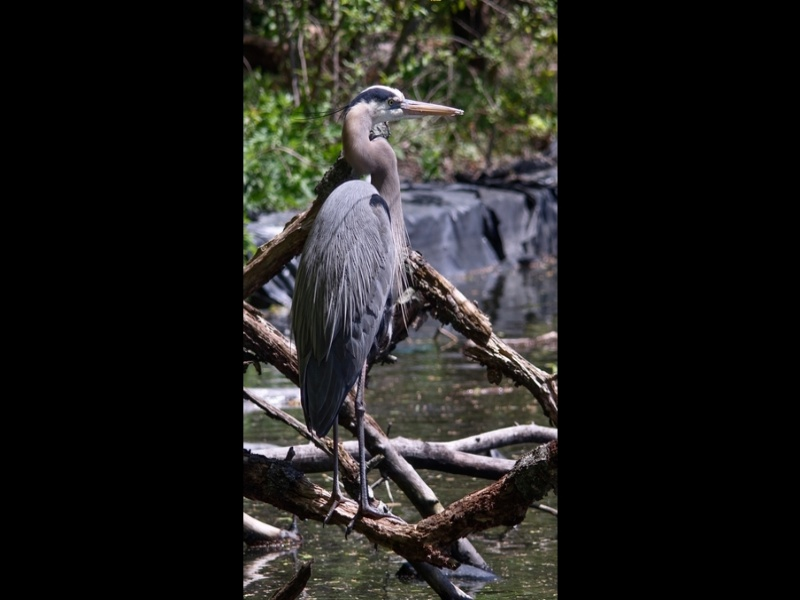heron: (288, 82, 469, 531)
